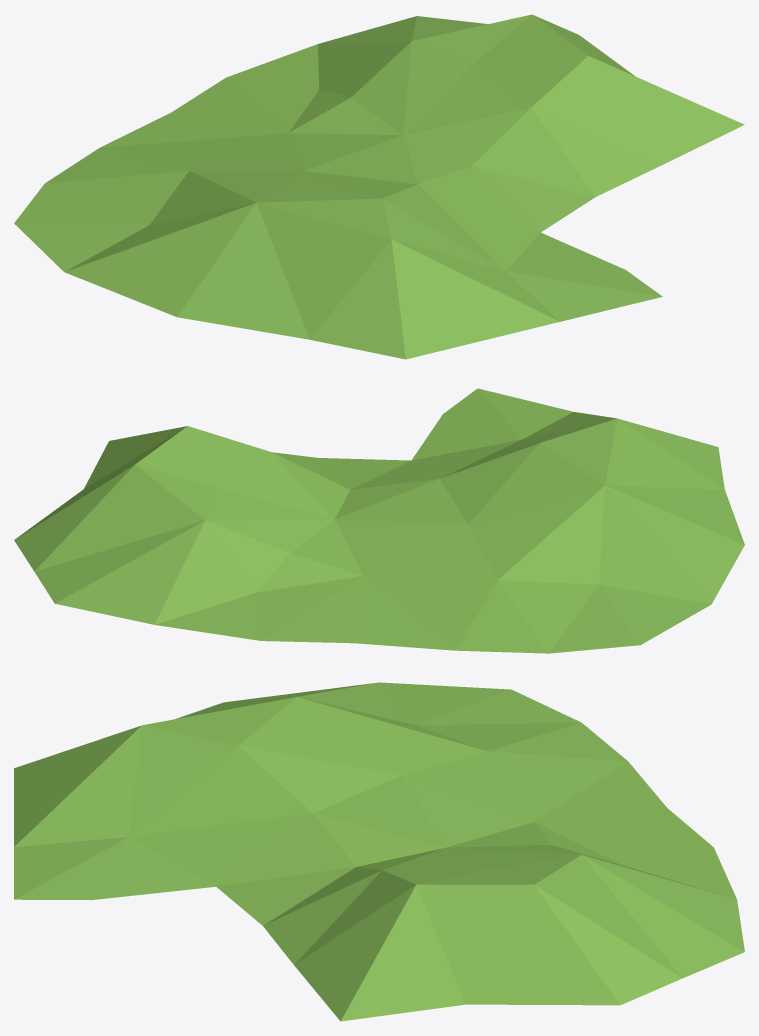
Rendered from MT_Mountain_S_c_15.fbx.
3 renders of one model, top to bottom at view 1: azimuth 30°, elevation 25°; view 2: azimuth 150°, elevation 25°; view 3: azimuth 270°, elevation 25°, orthographic. The views are drawn at different scales.
Visible parts, largest first — view 1: MT_Mountain_S_c_15; view 2: MT_Mountain_S_c_15; view 3: MT_Mountain_S_c_15.
Part boxes in pixels (x1=…): MT_Mountain_S_c_15: x1=14, y1=14, x2=744, y2=359; MT_Mountain_S_c_15: x1=14, y1=388, x2=744, y2=653; MT_Mountain_S_c_15: x1=14, y1=682, x2=744, y2=1021.
Size of the model in its own units: 2121 by 221 by 1935.
